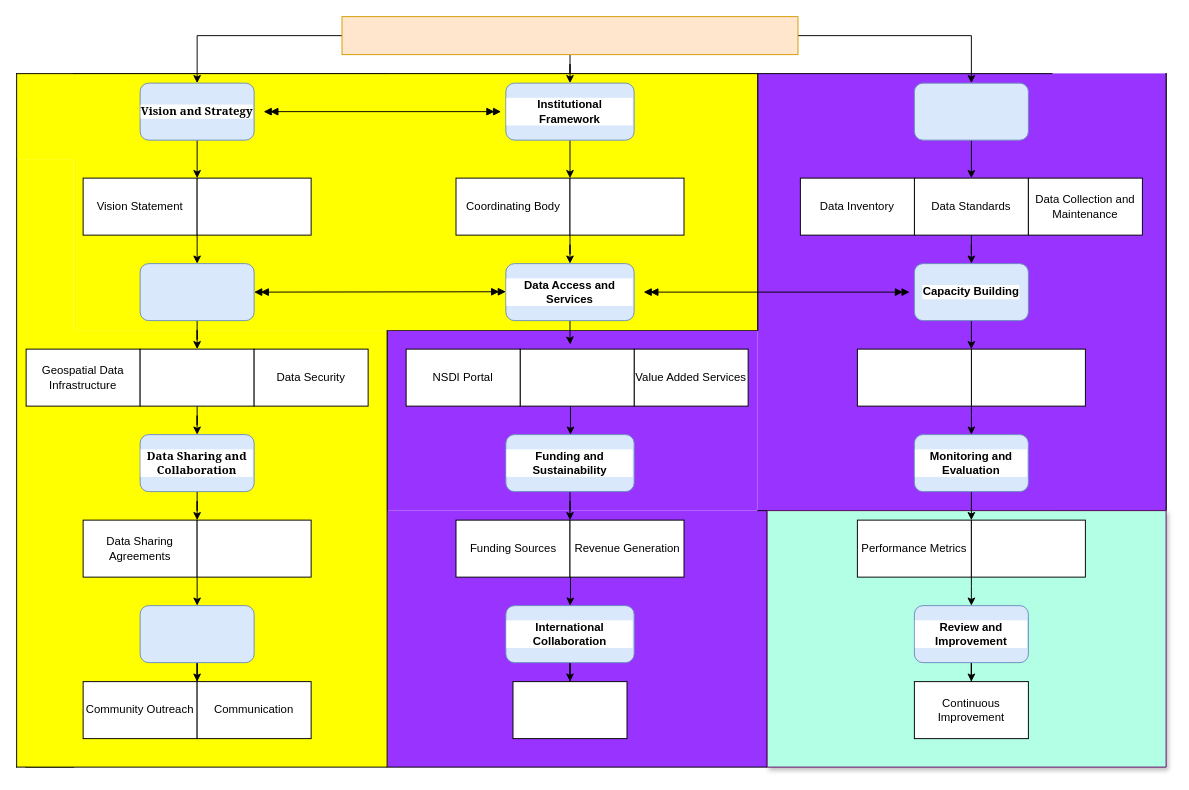
Image size: 1189x790. Some labels were removed from this diagram. Each missing label, with the centre of its shape:
Authentication & Authorization: [576,377]
Awareness: [1027,377]
Collaboration: [253,548]
Data Management: [970,111]
Global Intergration: [569,710]
Interoperability: [196,377]
Legal and Regulatory Framework: [626,206]
NSDI CONCEPTUAL FRAMEWORK: [569,35]
Public Engagement: [196,634]
Quality Assurance: [1027,548]
Strategic Planning: [253,206]
Technology Infrastructure: [196,292]
Training: [913,377]
